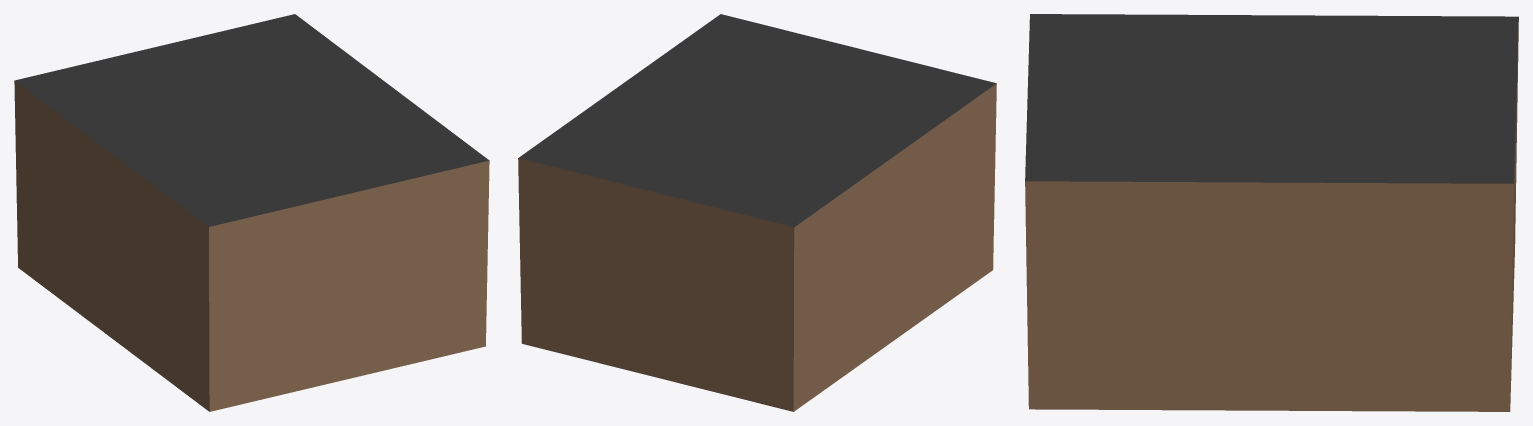
The model's file is box_lil.fbx.
3 views of the same model, side by side, from view 1: azimuth 30°, elevation 25°; view 2: azimuth 150°, elevation 25°; view 3: azimuth 270°, elevation 25° (orthographic). The views are drawn at different scales.
Parts seen in each view (by area): view 1: box_lil; view 2: box_lil; view 3: box_lil.
Part boxes in pixels (bbox=[...]): box_lil: bbox=[14, 14, 489, 411]; box_lil: bbox=[518, 14, 996, 411]; box_lil: bbox=[1025, 14, 1518, 411].
Size of the model in its own units: 8.41 by 10.34 by 5.3.
